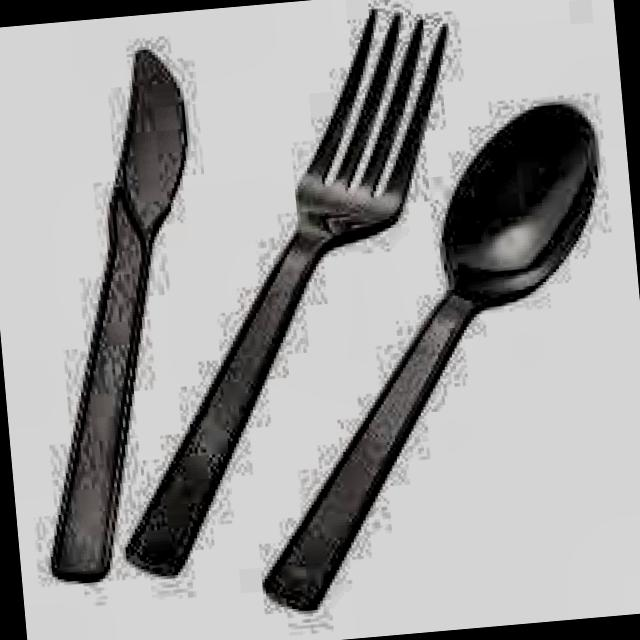plastic utensil: (129, 12, 444, 574), (264, 106, 598, 609), (51, 51, 185, 580)
